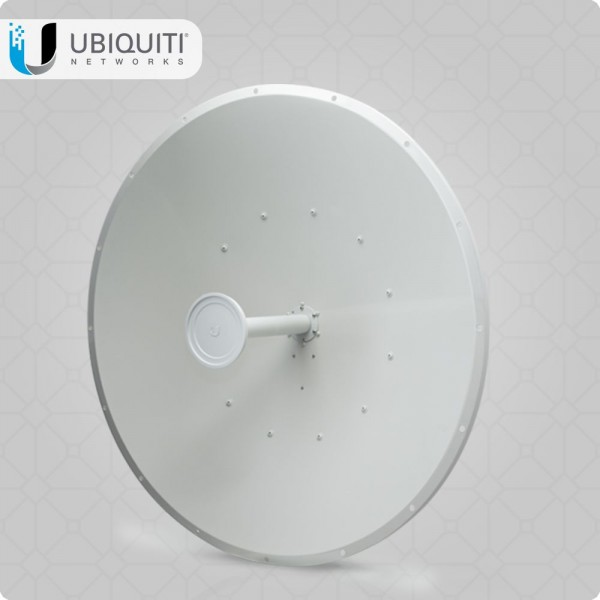ba: (65, 79, 499, 570)
